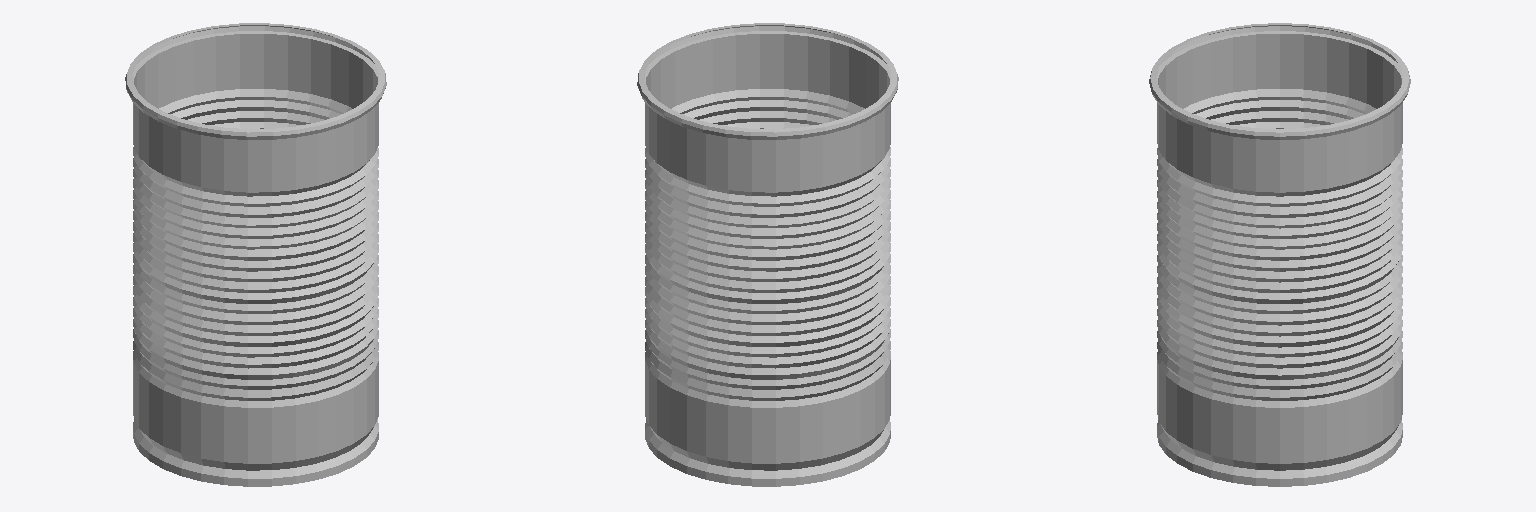
File: anorgnaik1.obj
3 views of the same model, side by side, from view 1: azimuth 30°, elevation 25°; view 2: azimuth 150°, elevation 25°; view 3: azimuth 270°, elevation 25° (orthographic).
Visible parts, largest first — view 1: Cylinder; view 2: Cylinder; view 3: Cylinder.
Part boxes in pixels (x1,y1,x2,y2): Cylinder: (125,23,386,486); Cylinder: (637,23,898,486); Cylinder: (1149,23,1410,486).
Size of the model in its own units: 9.96 by 15 by 9.96.